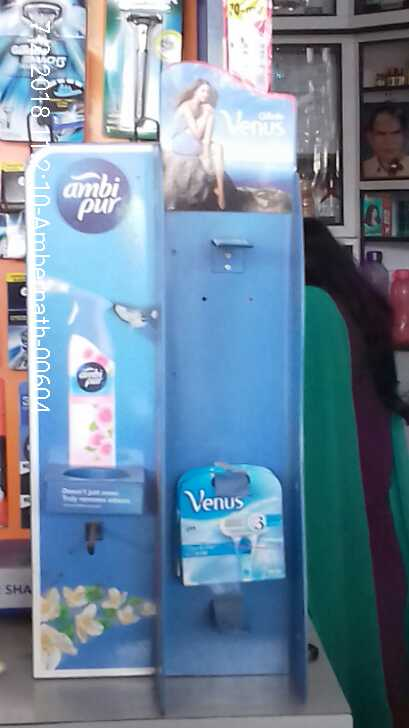venus: (173, 470, 292, 584)
